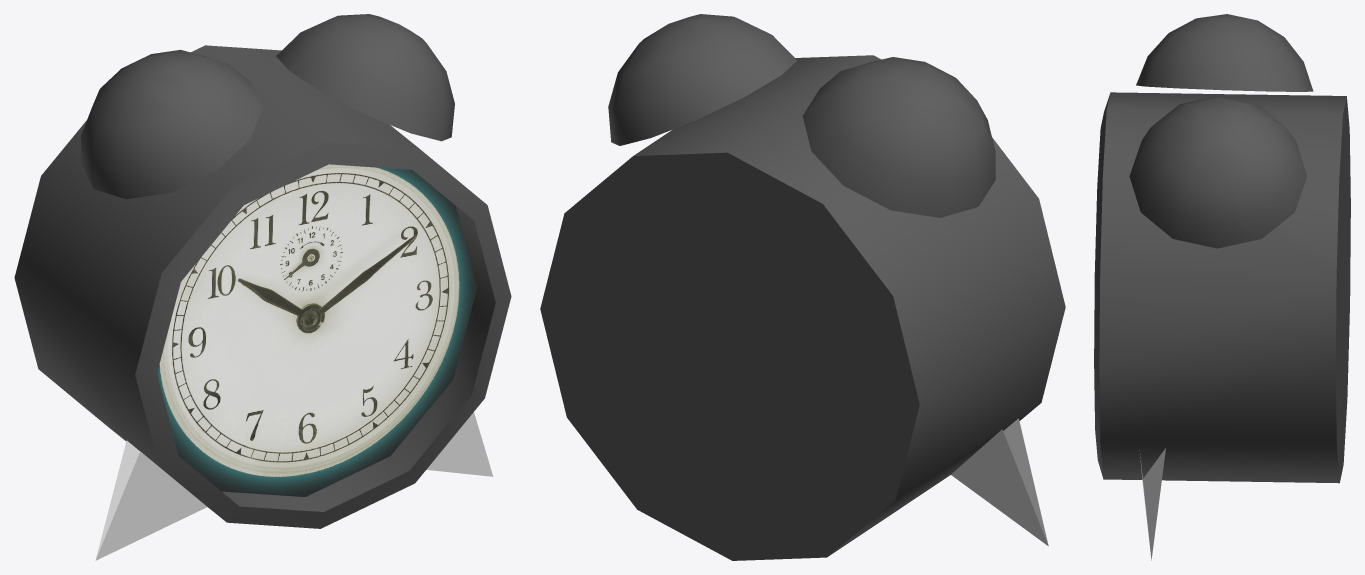
The picture shows the model from 3 angles, left to right: view 1: azimuth 30°, elevation 25°; view 2: azimuth 150°, elevation 25°; view 3: azimuth 270°, elevation 25°; orthographic projection. The views are drawn at different scales.
Visible parts, largest first — view 1: Mesh_2.002, Mesh_0.002, Mesh_1.002; view 2: Mesh_2.002, Mesh_1.002; view 3: Mesh_2.002, Mesh_1.002.
Boxes of the visible parts, x1,y1,x2,y2 form: Mesh_2.002: [14, 14, 511, 528]; Mesh_0.002: [157, 164, 476, 496]; Mesh_1.002: [95, 412, 493, 560]; Mesh_2.002: [540, 14, 1065, 560]; Mesh_1.002: [951, 418, 1048, 546]; Mesh_2.002: [1094, 14, 1350, 483]; Mesh_1.002: [1139, 448, 1165, 560].
Bounding box in the file's own units: 17.22 × 19.21 × 10.76.
3 materials, 1 textured.
